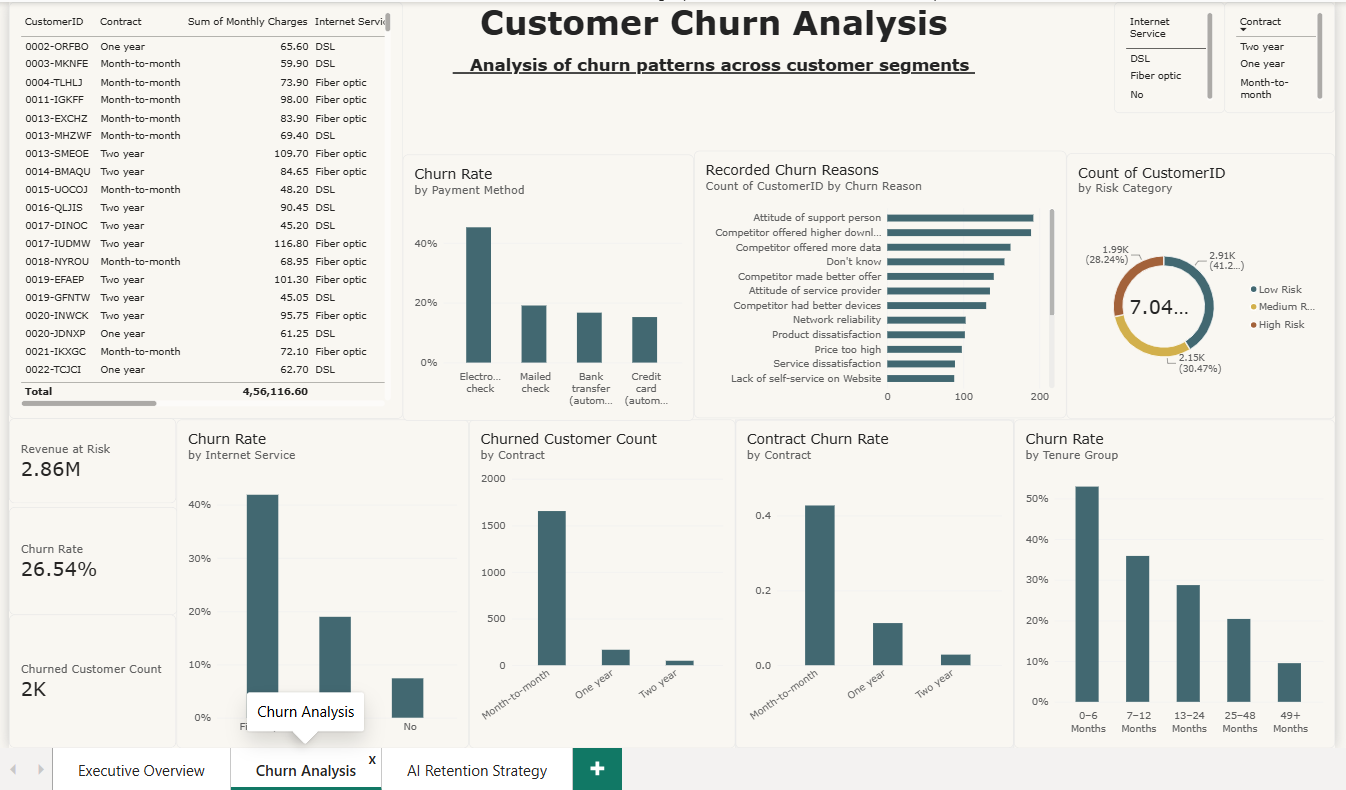

The page's visual inventory and layout, read from the dashboard file:
{"tool":"powerbi","page":{"name":"Churn Analysis","canvas":[1920,1080],"ordinal":1},"visuals":[{"type":"textbox","box":[529,0,983.9,279.9],"z":0},{"type":"cardVisual","fields":{"Data":["Telco_Churn.Churned Customer Count"]},"box":[0,887.1,242.9,193.5],"z":1},{"type":"cardVisual","fields":{"Data":["Telco_Churn.Churn Rate"]},"box":[0,730.7,244.9,156.4],"z":2},{"type":"cardVisual","fields":{"Data":["Telco_Churn.Revenue at Risk"]},"box":[0,603.1,242.9,123.5],"z":3},{"type":"clusteredColumnChart","fields":{"Category":["Telco_Churn.Contract"],"Y":["Telco_Churn.Churned Customer Count"]},"box":[666,604.4,385.5,475.9],"z":4},{"type":"clusteredColumnChart","fields":{"Category":["Telco_Churn.Contract"],"Y":["Telco_Churn.Contract Churn Rate"]},"box":[1051.4,604.4,403.6,475.9],"z":5},{"type":"clusteredColumnChart","fields":{"Category":["Telco_Churn.Tenure Group"],"Y":["Telco_Churn.Churn Rate"]},"box":[1455,604.4,465.1,475.9],"z":6},{"type":"clusteredColumnChart","fields":{"Category":["Telco_Churn.Internet Service"],"Y":["Telco_Churn.Churn Rate"]},"box":[242.5,604.4,423.5,475.9],"z":7},{"type":"clusteredColumnChart","fields":{"Category":["Telco_Churn.Payment Method"],"Y":["Telco_Churn.Churn Rate"]},"box":[570.2,220.2,421.7,385.5],"z":8},{"type":"clusteredBarChart","title":"Recorded Churn Reasons","fields":{"Category":["Telco_Churn.Churn Reason"],"Y":["CountNonNull(Telco_Churn.CustomerID)"]},"box":[992.1,216.1,539.3,387],"z":9},{"type":"tableEx","fields":{"Values":["Telco_Churn.Contract"]},"box":[1759.9,0,160.5,160.5],"z":10},{"type":"tableEx","fields":{"Values":["Telco_Churn.Internet Service"]},"box":[1599.3,0,160.5,160.5],"z":11},{"type":"donutChart","fields":{"Category":["Telco_Churn.Risk Category"],"Y":["CountNonNull(Telco_Churn.CustomerID)"]},"box":[1531.4,218.2,389,384.9],"z":12},{"type":"tableEx","fields":{"Values":["Telco_Churn.CustomerID","Telco_Churn.Contract","Sum(Telco_Churn.Monthly Charges)","Telco_Churn.Internet Service","Telco_Churn.Tech Support","Telco_Churn.Online Security","Telco_Churn.Churn Label","Sum(Telco_Churn.Churn Score)","Sum(Telco_Churn.CLTV)","Telco_Churn.Churn Reason"]},"box":[0,0,570.2,603.1],"z":13}]}

Visuals, with their boxes on the page's 1920x1080 design canvas (x1, y1, x2, y2). These are canvas units, not pixel positions in the 1346x790 screenshot, which may show the page scaled, cropped or inside an application window:
textbox: [529,0,1513,280]
cardVisual - Telco_Churn.Churned Customer Count: [0,887,243,1081]
cardVisual - Telco_Churn.Churn Rate: [0,731,245,887]
cardVisual - Telco_Churn.Revenue at Risk: [0,603,243,727]
clusteredColumnChart - Telco_Churn.Contract x Telco_Churn.Churned Customer Count: [666,604,1052,1080]
clusteredColumnChart - Telco_Churn.Contract x Telco_Churn.Contract Churn Rate: [1051,604,1455,1080]
clusteredColumnChart - Telco_Churn.Tenure Group x Telco_Churn.Churn Rate: [1455,604,1920,1080]
clusteredColumnChart - Telco_Churn.Internet Service x Telco_Churn.Churn Rate: [242,604,666,1080]
clusteredColumnChart - Telco_Churn.Payment Method x Telco_Churn.Churn Rate: [570,220,992,606]
"Recorded Churn Reasons" clusteredBarChart: [992,216,1531,603]
tableEx - Telco_Churn.Contract: [1760,0,1920,160]
tableEx - Telco_Churn.Internet Service: [1599,0,1760,160]
donutChart - Telco_Churn.Risk Category x CountNonNull(Telco_Churn.CustomerID): [1531,218,1920,603]
tableEx - Telco_Churn.CustomerID x Telco_Churn.Contract: [0,0,570,603]
